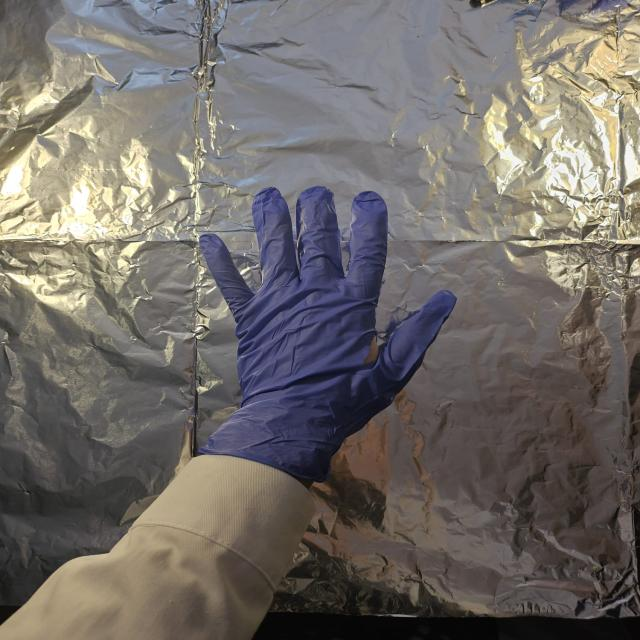gloves_damaged: (194, 184, 455, 479)
